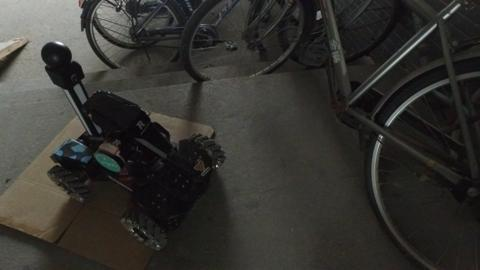chariot: (40, 39, 237, 245)
